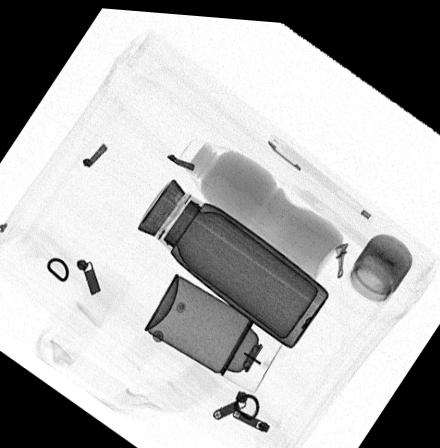Sprayer: (143, 269, 285, 388)
